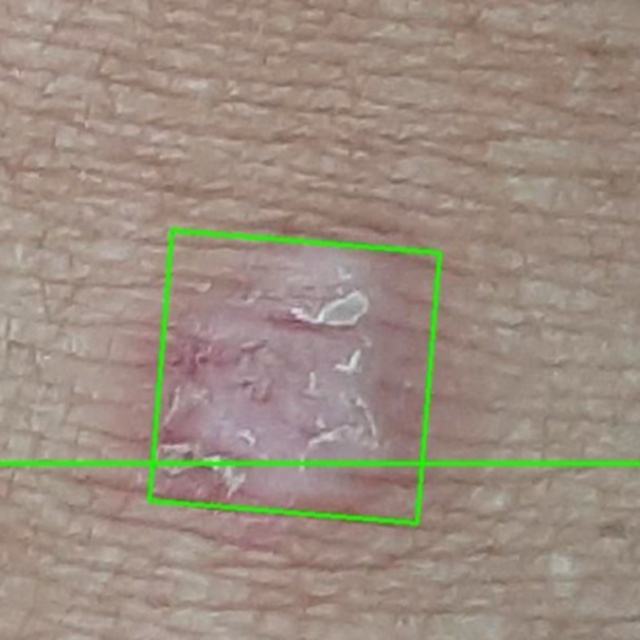Contact Dermatitis: (0, 463, 639, 639), (149, 231, 438, 523)
